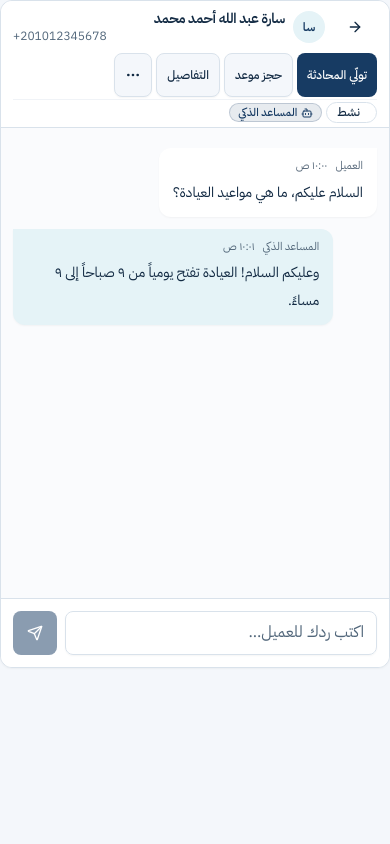
Test case: ConversationDetail Component (CONV-UI-01) › Mobile view toggle switches cleanly between messages and context view
The width and height of the screenshot is (390, 844).
Click the button with aria-label "عرض تفاصيل العميل والمواعيد" at (188, 75), box top-left (156, 53), bottom-right (220, 97)
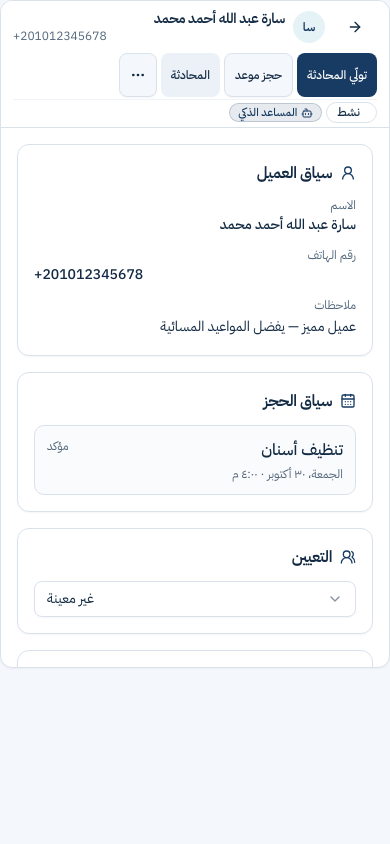
Expected: the text "سياق العميل" is shown, top-left (257, 161), bottom-right (332, 185)
Expected: the text "سياق الحجز" is shown, top-left (264, 389), bottom-right (332, 413)
Expected: the text "عميل مميز" is shown, top-left (160, 316), bottom-right (356, 337)
